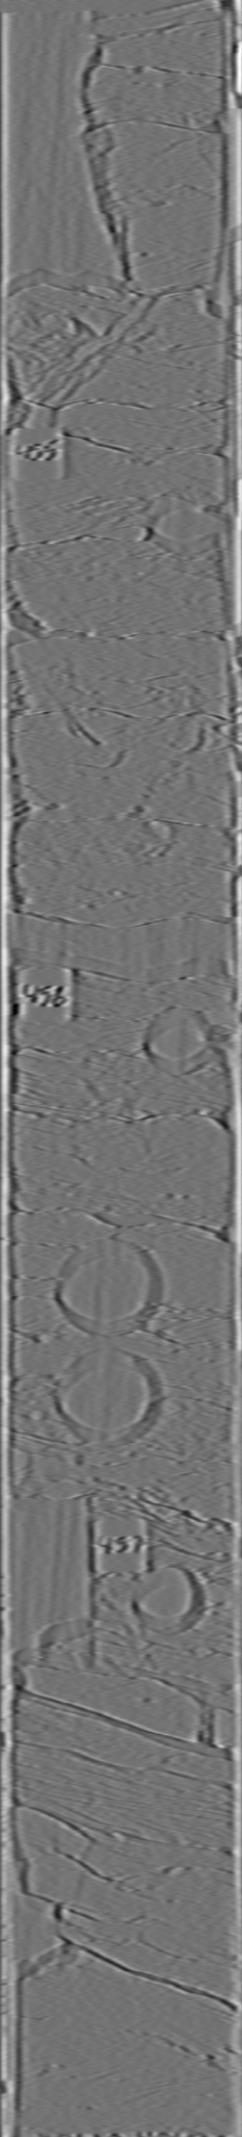hplug: (121, 1558, 209, 1642), (135, 1000, 224, 1082), (137, 480, 222, 566)
scal: (53, 1233, 169, 1340), (50, 1349, 166, 1451)
vplug: (18, 1486, 103, 1674)
